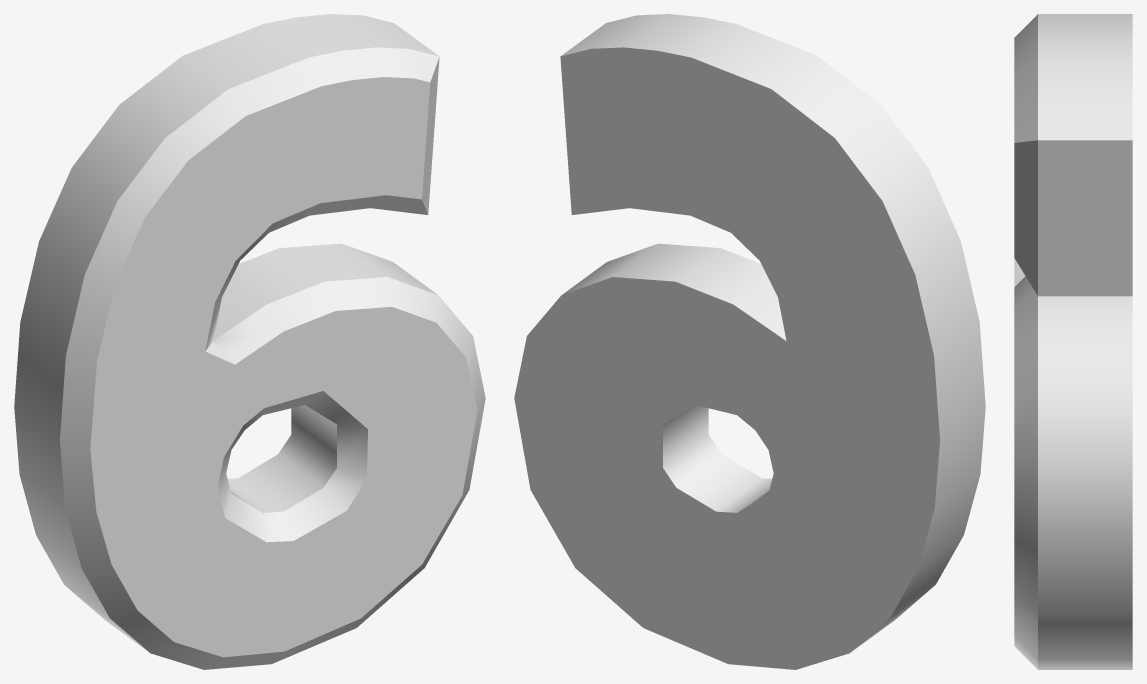
File: LettersStylized01_6.FBX
3 renders of one model, left to right at view 1: azimuth 30°, elevation 25°; view 2: azimuth 150°, elevation 25°; view 3: azimuth 270°, elevation 25°, orthographic. The views are drawn at different scales.
Parts seen in each view (by area): view 1: LettersStylized01_6; view 2: LettersStylized01_6; view 3: LettersStylized01_6.
Boxes of the visible parts, x1,y1,x2,y2 form: LettersStylized01_6: (14, 14, 485, 669); LettersStylized01_6: (514, 14, 985, 669); LettersStylized01_6: (1014, 14, 1132, 669).
Size of what is drawn, in the model's own units: 0.3575 by 0.4794 by 0.083.
